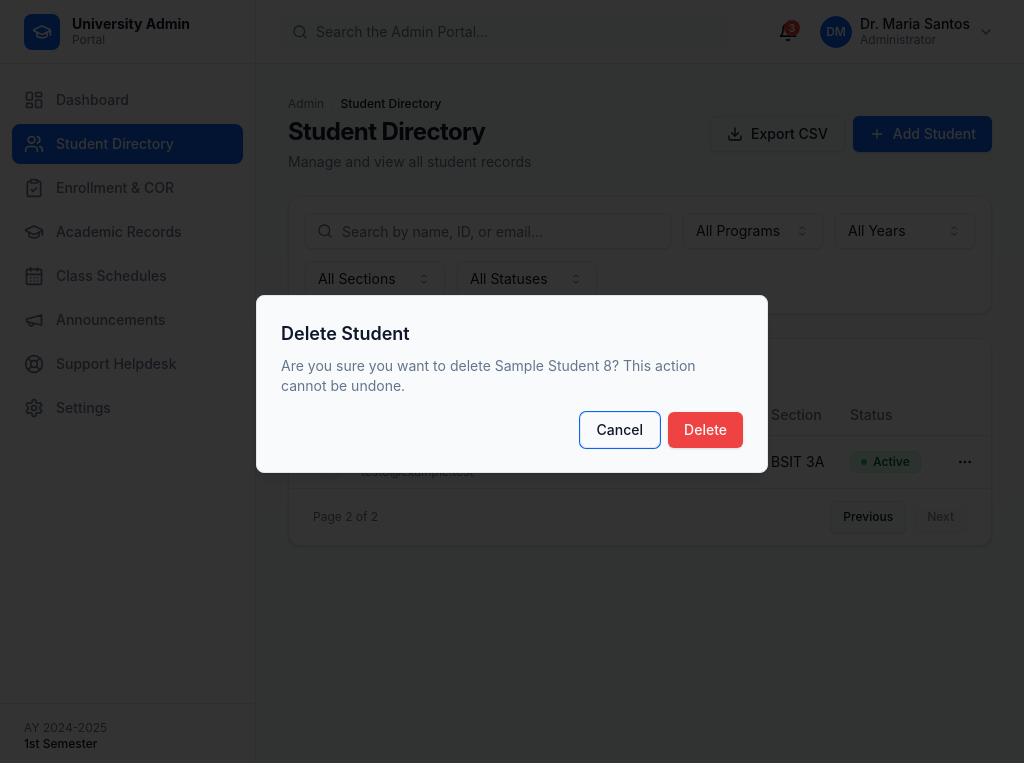
Test: Admin routes and workflows › deletes an unlinked student with confirmation and clamps the last page
Earlier steps of the test are not shown.
Press the mouse on the button "Delete" at (706, 430), box [668, 412, 743, 448]
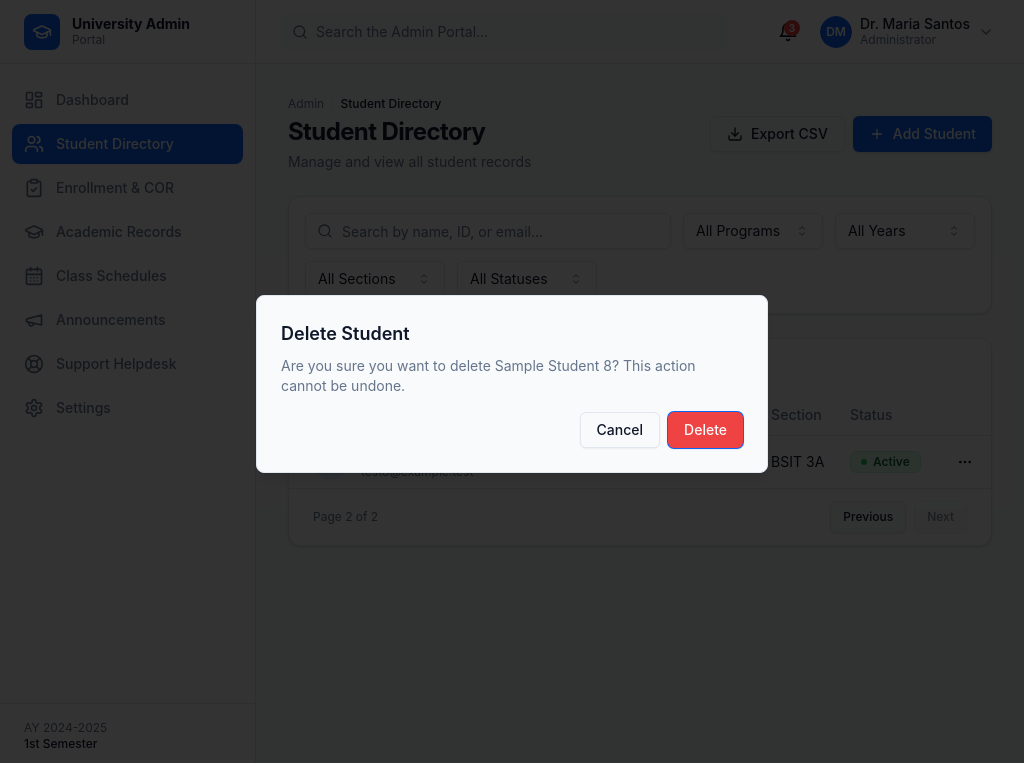
Click the button "Delete" at (706, 430), box [668, 412, 743, 448]
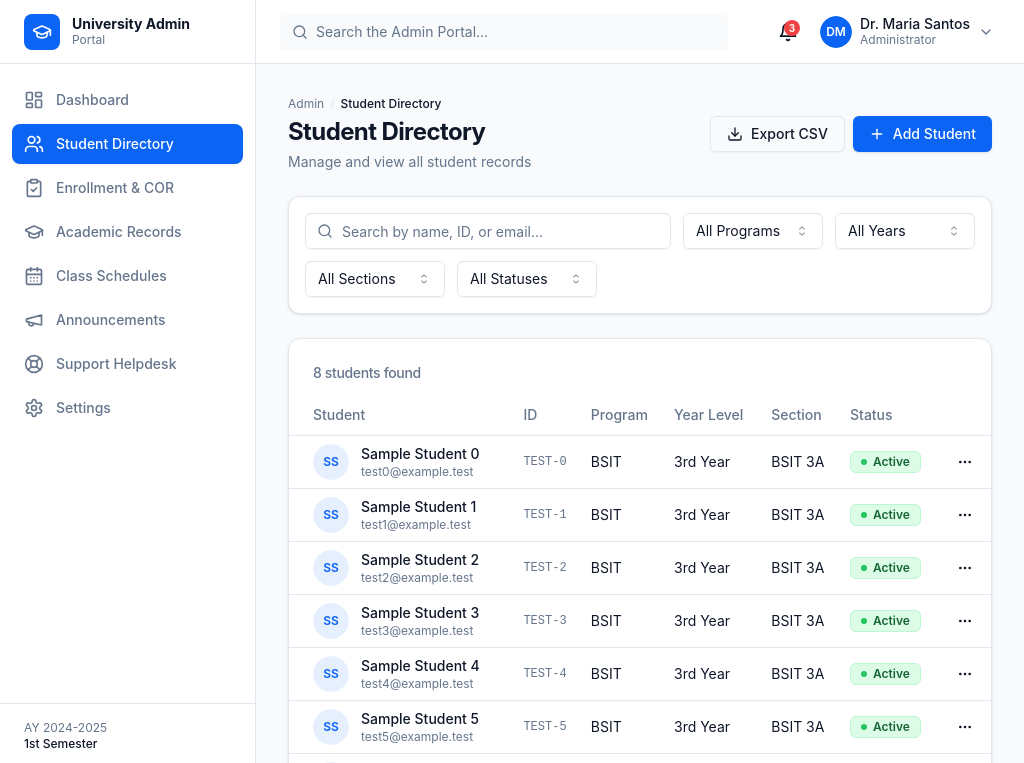
Result: the text "Sample Student 0" is shown at [361, 444, 480, 464]
